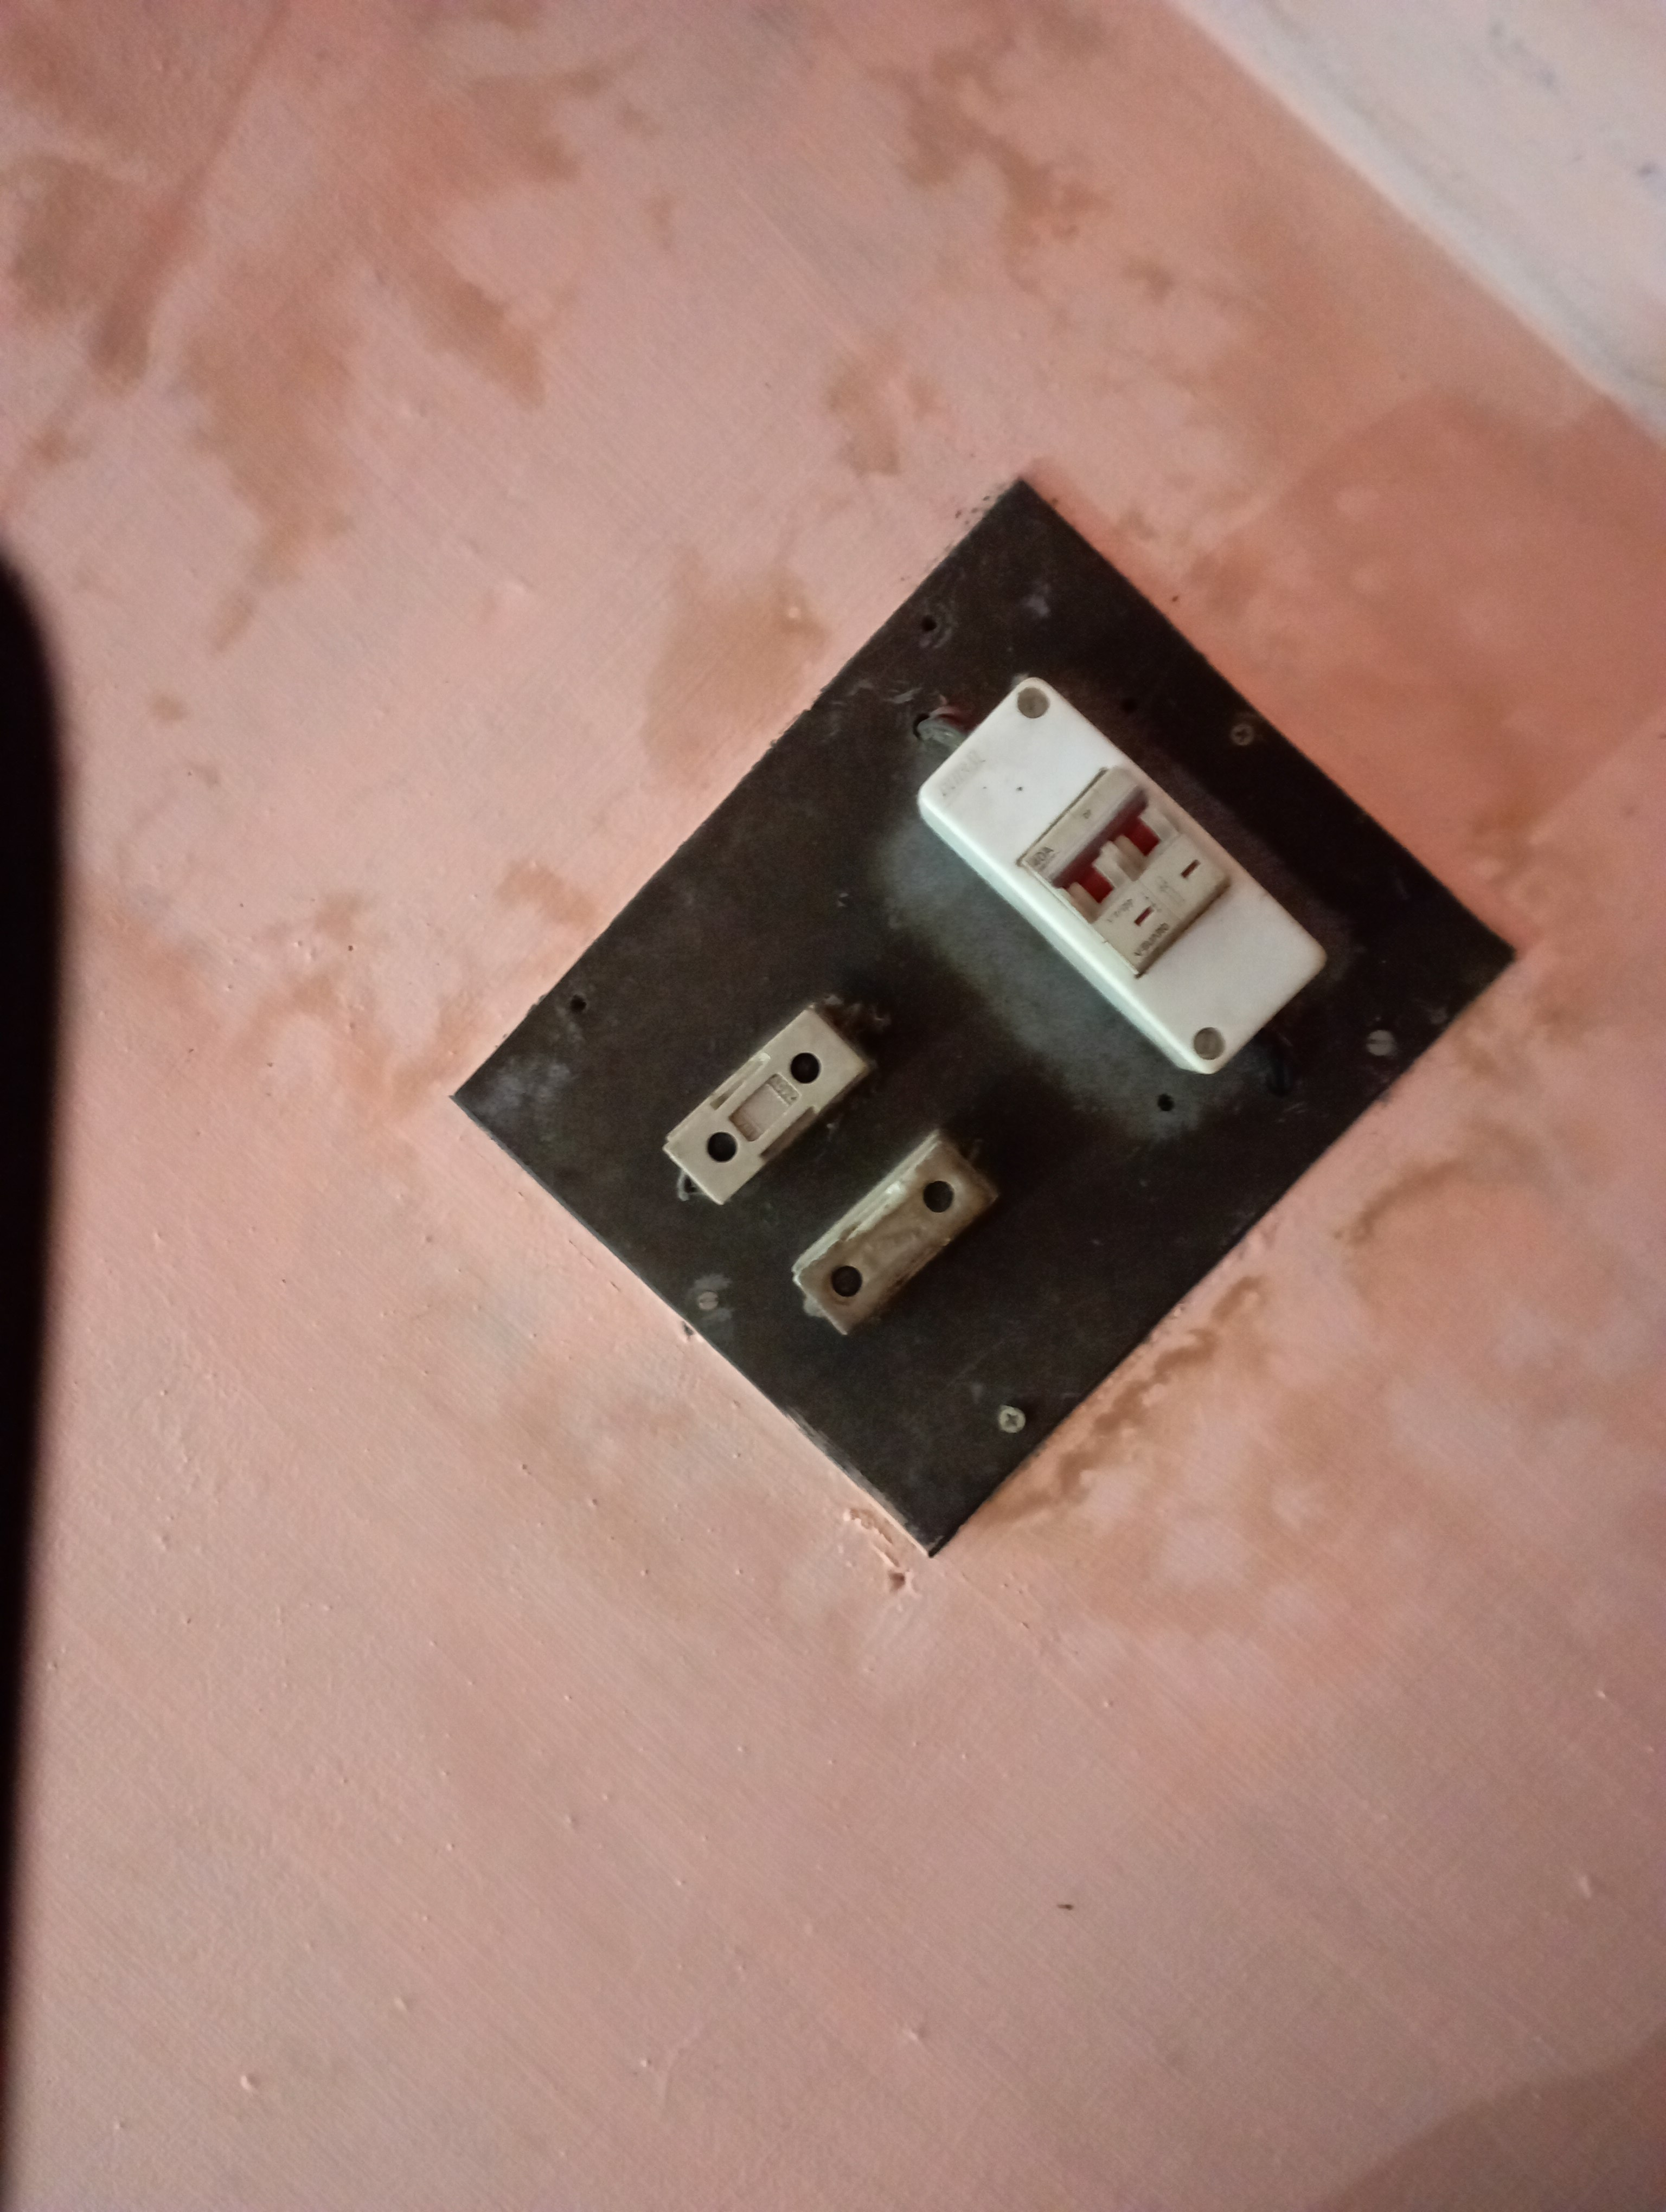ciruit_breaker: (900, 656, 1318, 1124)
fuse: (648, 983, 886, 1238), (781, 1110, 1005, 1353)
